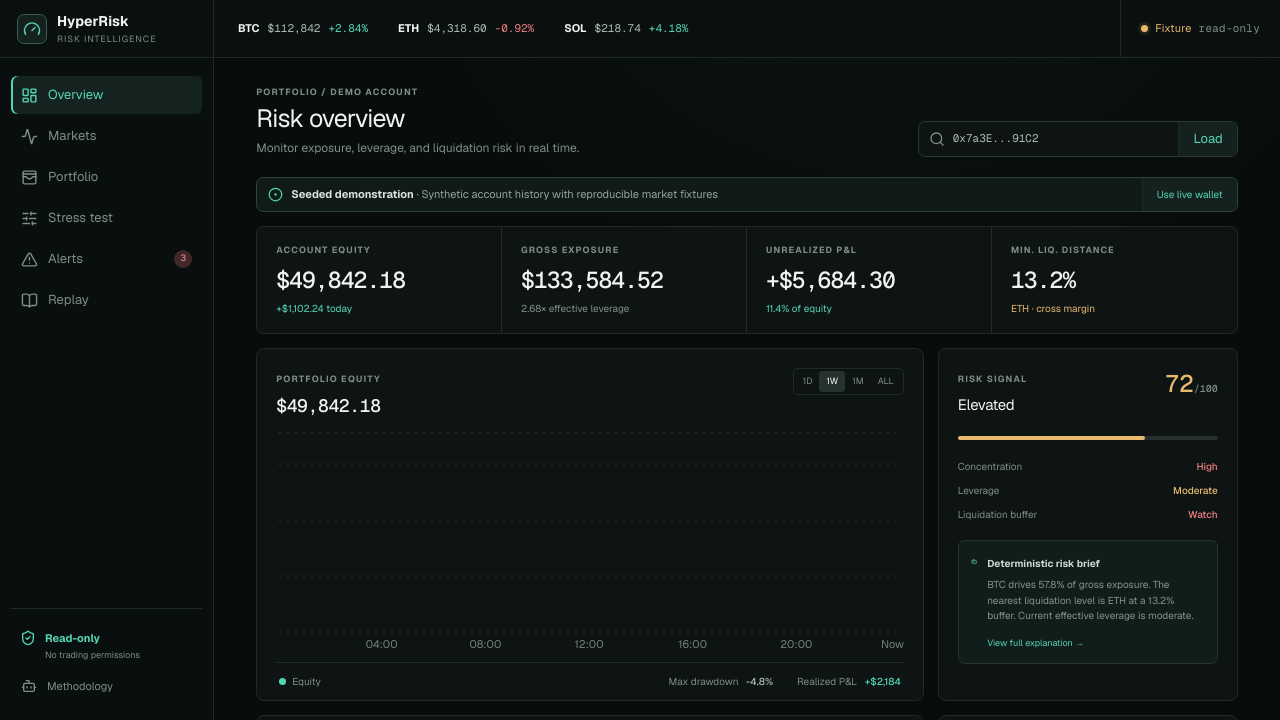
Test: HyperRisk demo workflow › rejects malformed wallet addresses without making a request
Click the button "Load" at {"x": 1208, "y": 138}, box [1178,122,1237,156]
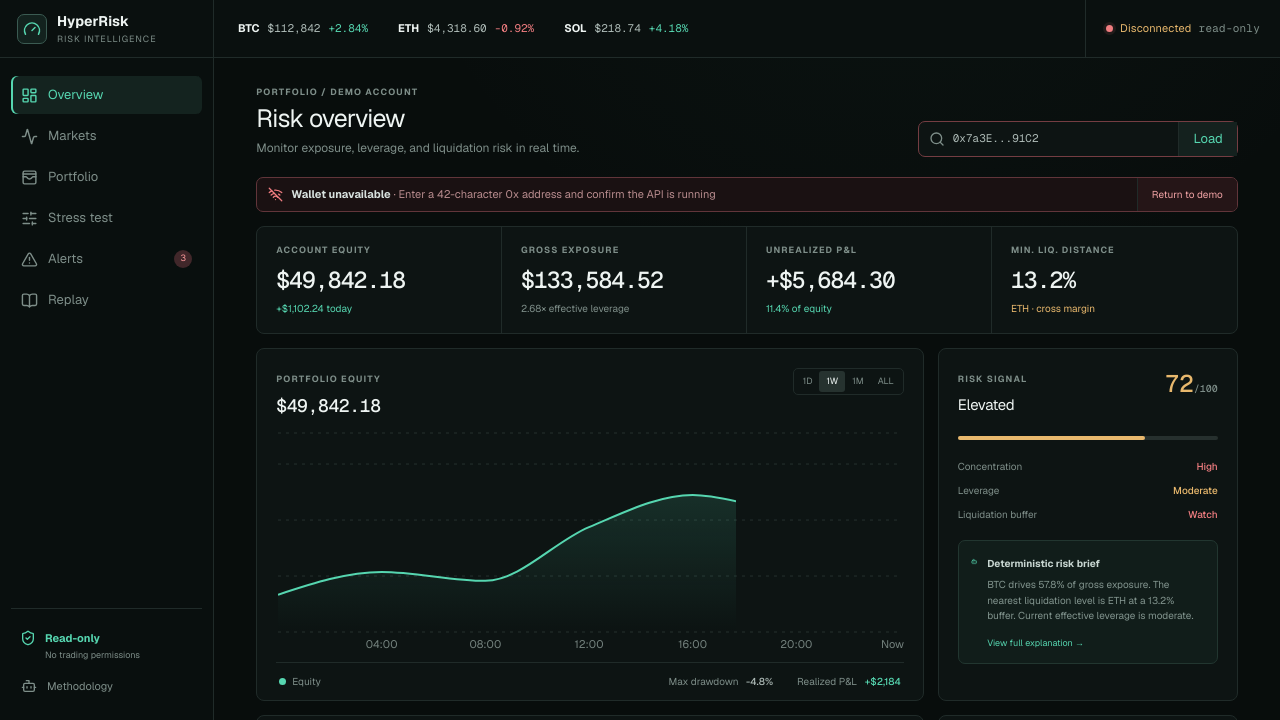
Expected: the text "Wallet unavailable" is shown, [291,187,391,201]
